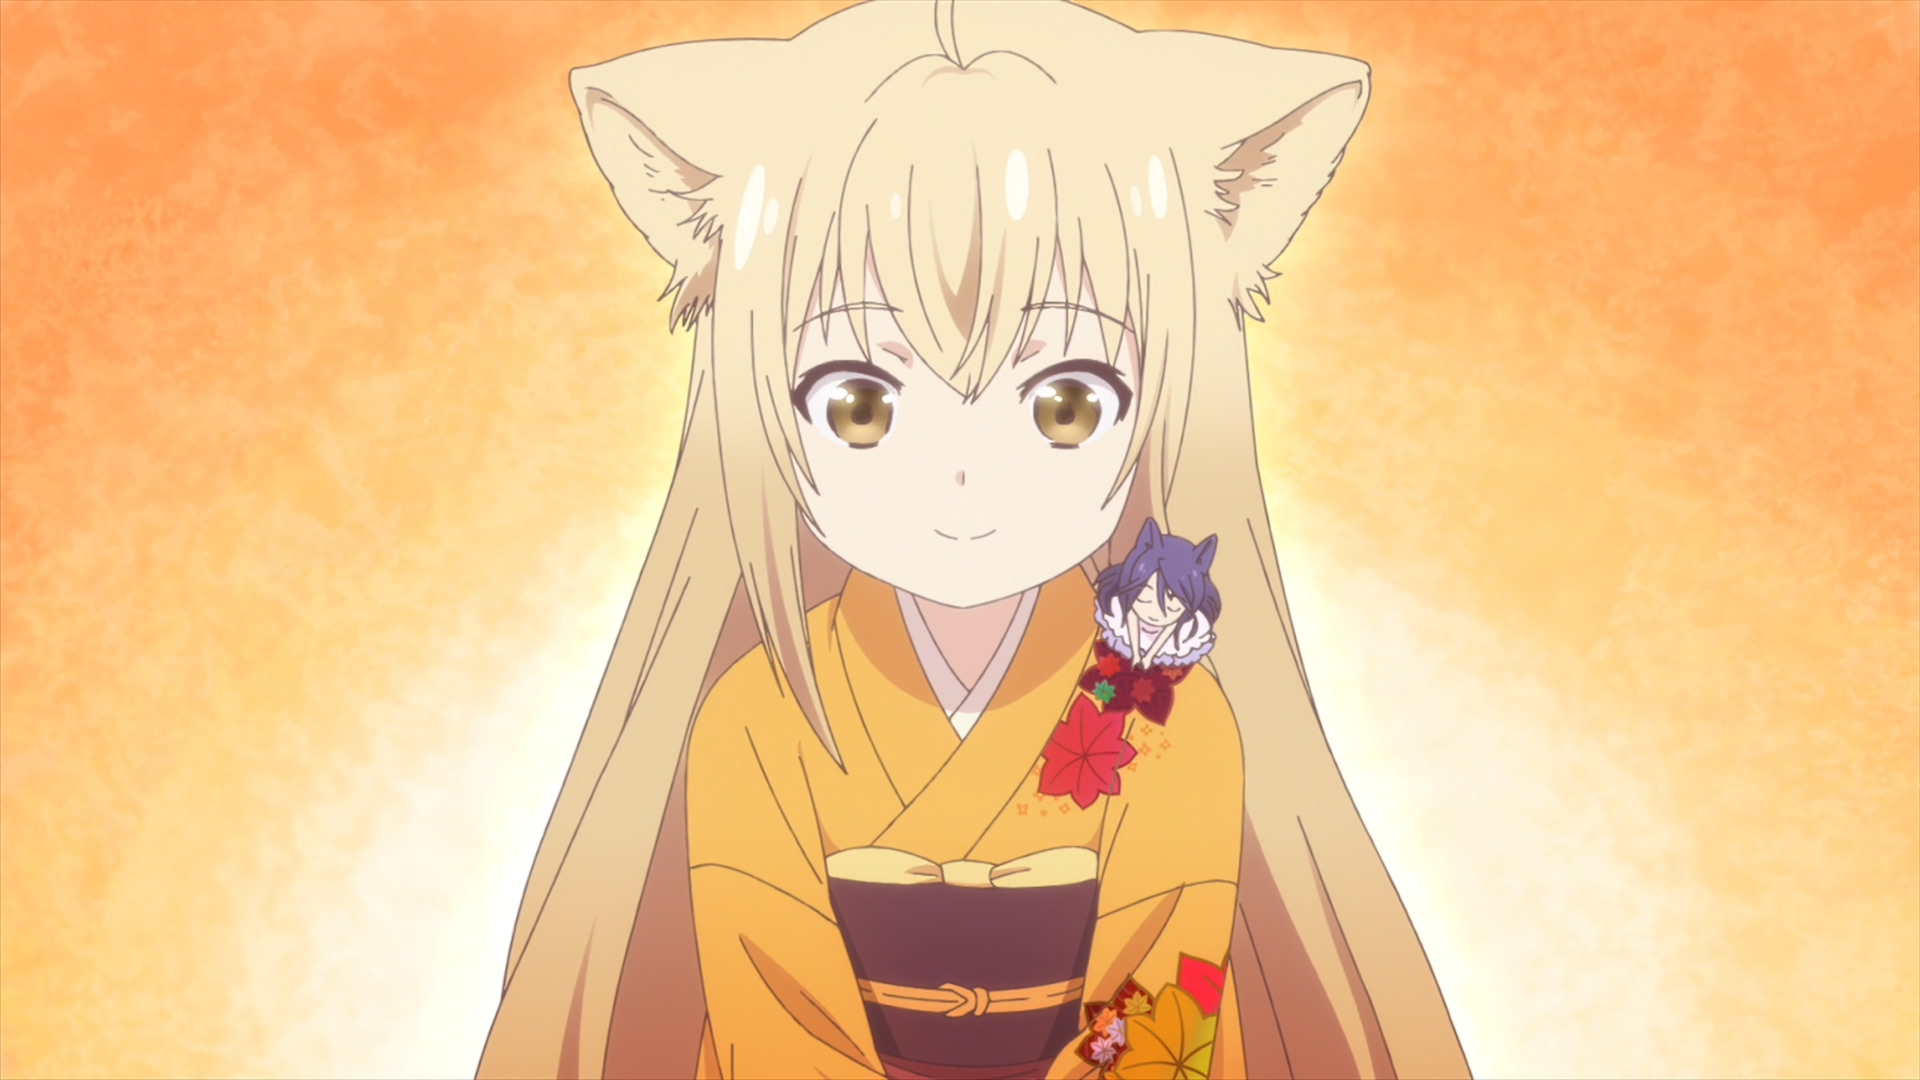柚: (471, 1, 1470, 1080)
皋: (1096, 516, 1222, 674)
